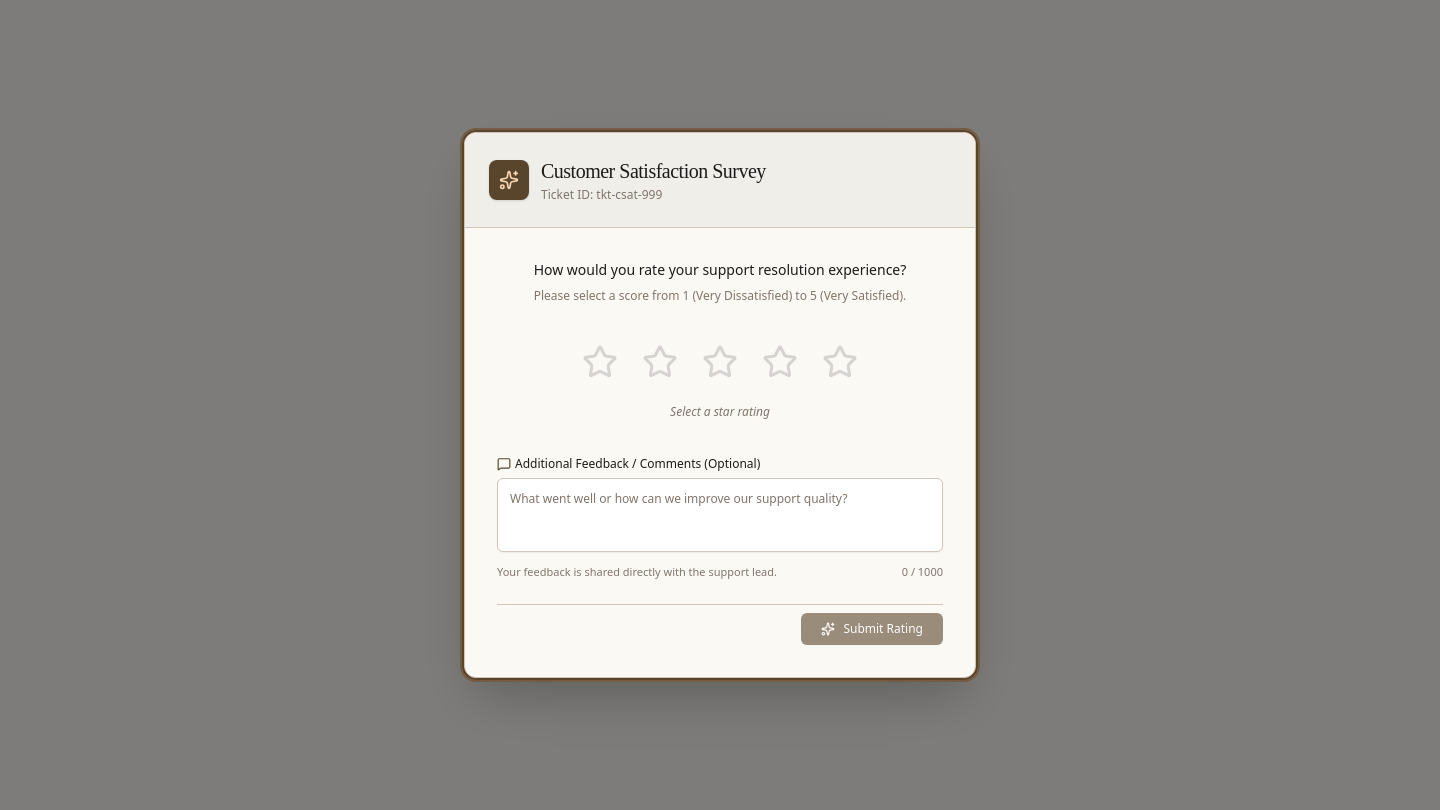
Test: CSATRatingModal Component & Helper Functions › Star Rating Interactions › updates selected rating option label on clicking stars
Click the radio button with test id "csat-star-4".
click(780, 362)  # box left=754, top=336, right=806, bottom=388
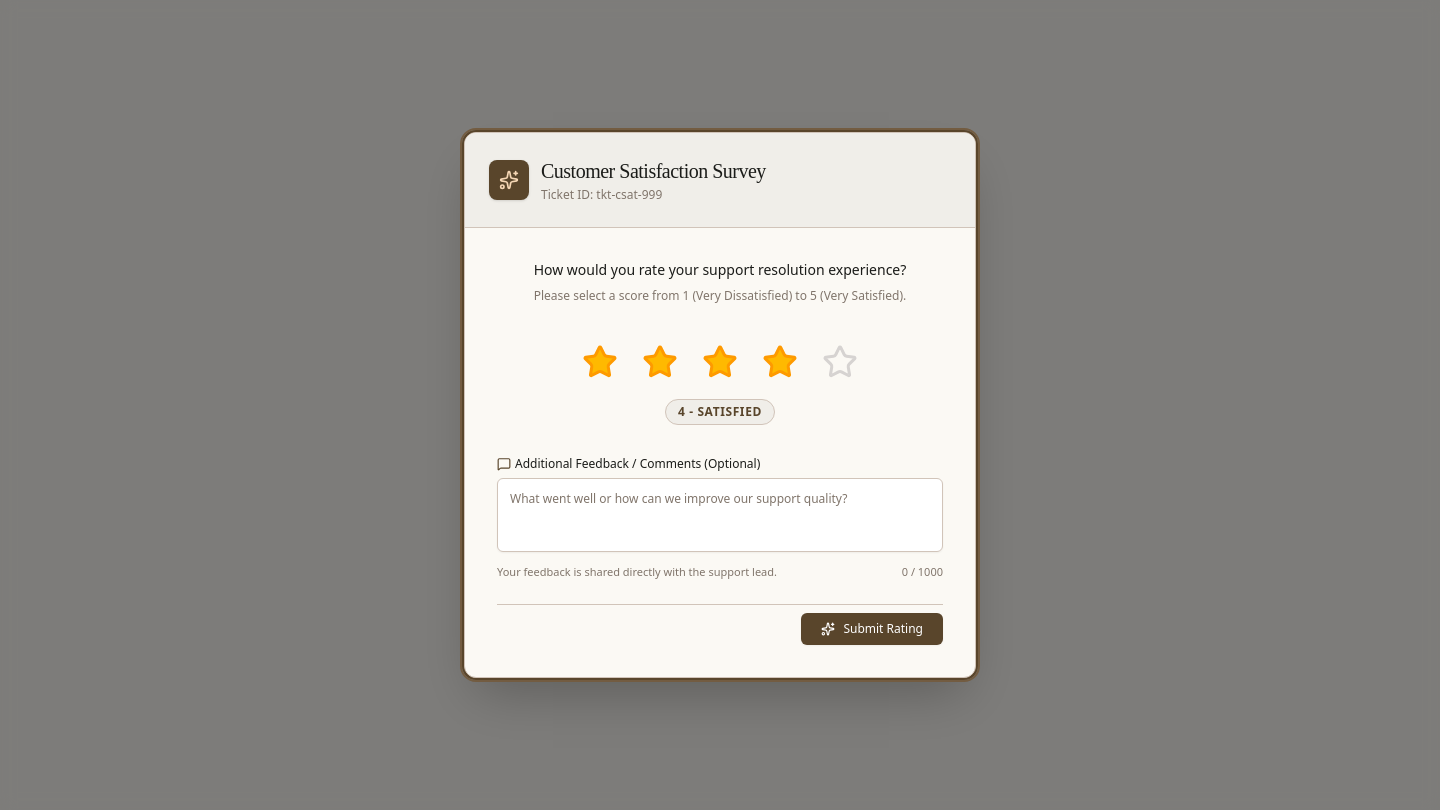
Check: the text with test id "csat-active-rating-label" reads "4 - Satisfied", box left=665, top=399, right=775, bottom=425
